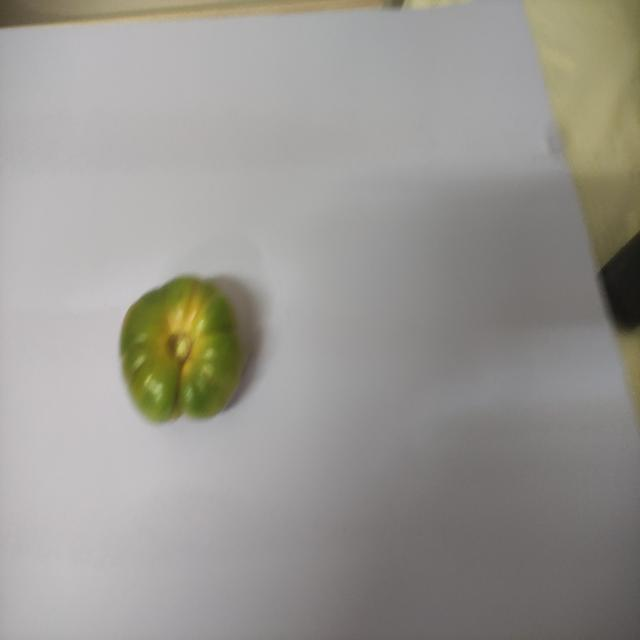yesil: (103, 262, 255, 429)
